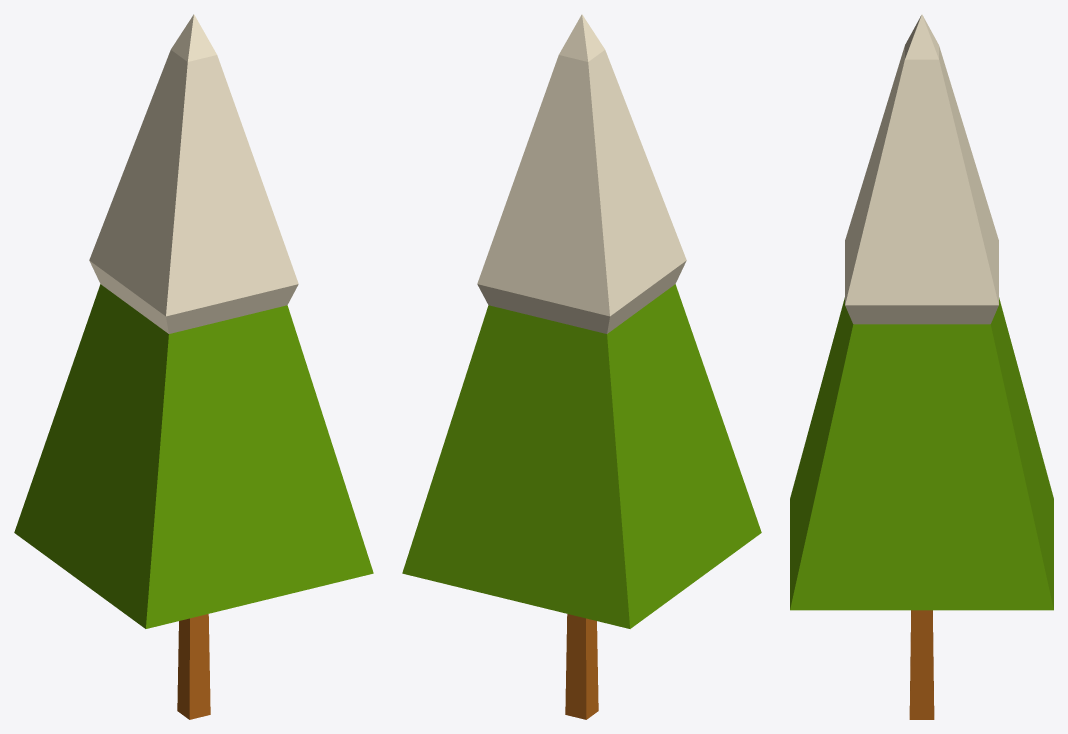
Rendered from Tree_33_Winter.fbx.
3 views of the same model, side by side, from view 1: azimuth 30°, elevation 25°; view 2: azimuth 150°, elevation 25°; view 3: azimuth 270°, elevation 25° (orthographic).
Parts seen in each view (by area): view 1: Tree_33_Winter; view 2: Tree_33_Winter; view 3: Tree_33_Winter.
Part boxes in pixels (left/top/right/bottom): Tree_33_Winter: left=14, top=14, right=373, bottom=719; Tree_33_Winter: left=402, top=14, right=761, bottom=719; Tree_33_Winter: left=790, top=14, right=1053, bottom=719.
Bounding box in the file's own units: 153 × 448 × 153.
